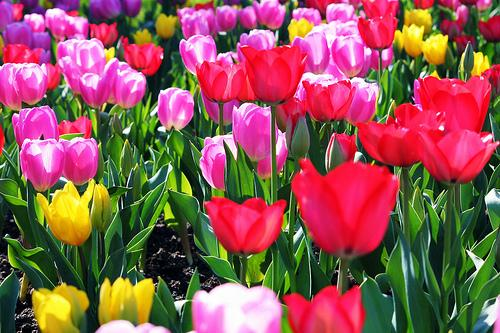tulip: (294, 159, 396, 256), (205, 196, 285, 252), (414, 130, 500, 180), (193, 285, 281, 333), (285, 284, 364, 333), (36, 182, 95, 242), (240, 43, 303, 99), (234, 101, 276, 160), (20, 139, 63, 189), (195, 62, 247, 100), (61, 137, 97, 183), (12, 107, 57, 143), (179, 35, 218, 75), (159, 87, 194, 129), (16, 64, 49, 103), (358, 16, 397, 47), (123, 44, 163, 71), (115, 69, 144, 106)
